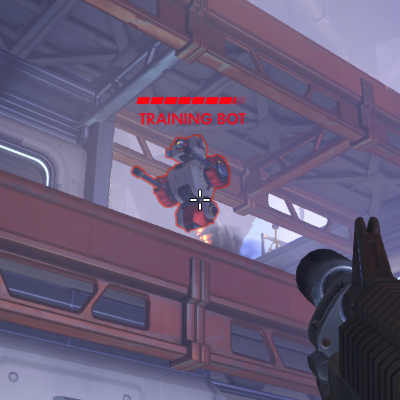hpbar: (136, 96, 247, 105)
